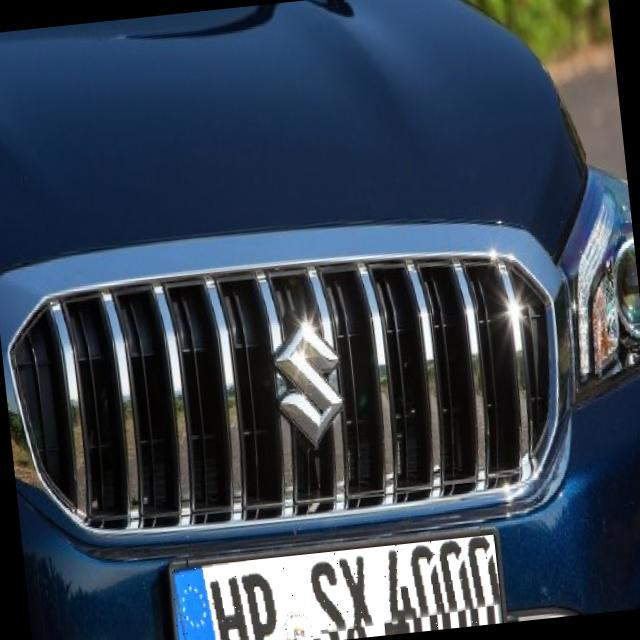Plate: (170, 535, 504, 640)
